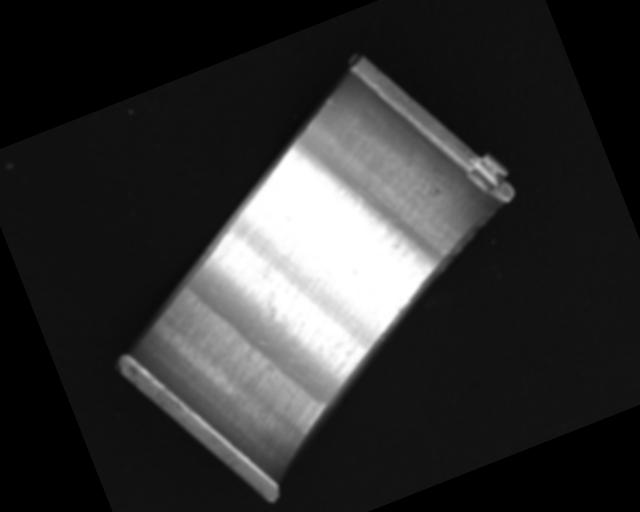nick: (326, 95, 341, 111)
